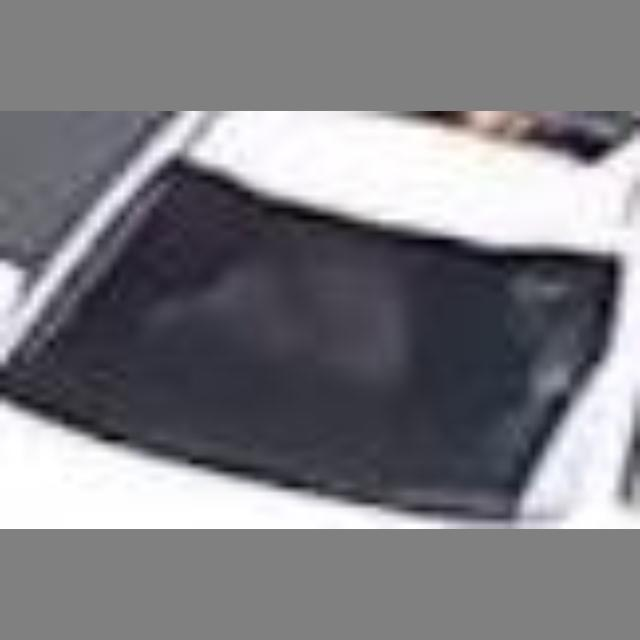tidak-pakai: (190, 206, 403, 419)
